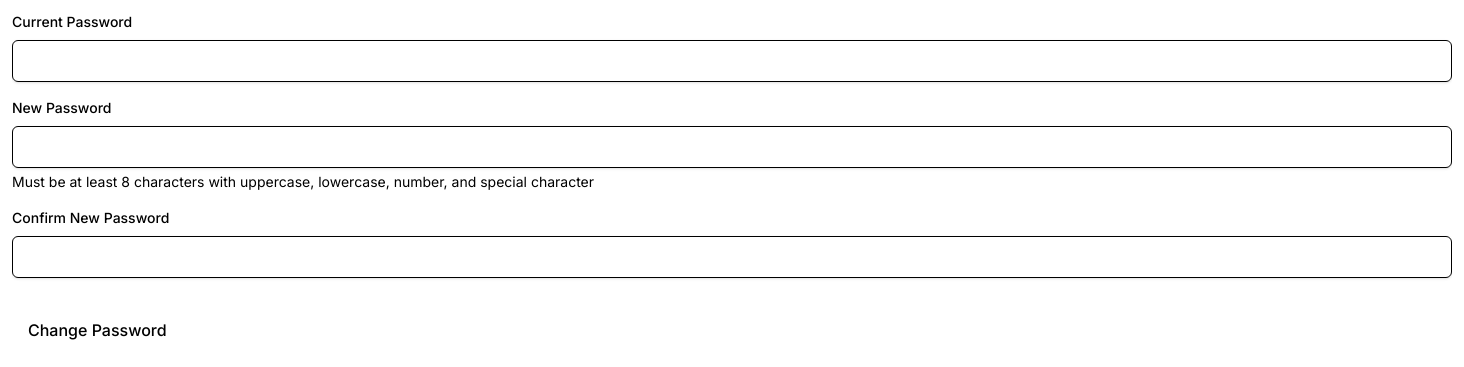
Scenario: ChangePasswordForm › shows validation error when new password lacks uppercase letter
Type "oldPassword123!" into the password field labelled "Current Password".
click(732, 61); type("oldPassword123!")  # box [12, 40, 1452, 82]
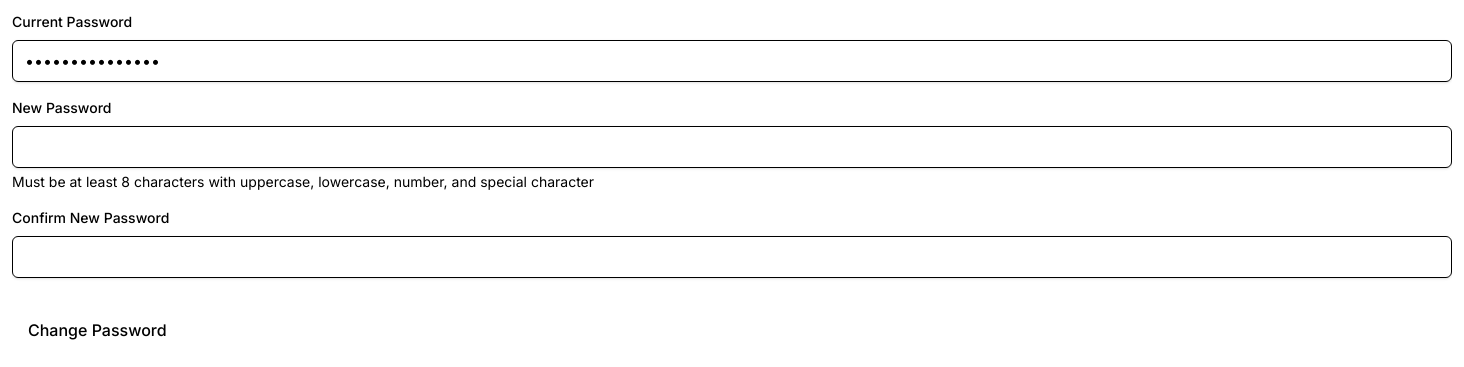
Type "newpassword123!" into the password field labelled "New Password".
click(732, 147); type("newpassword123!")  # box [12, 126, 1452, 168]
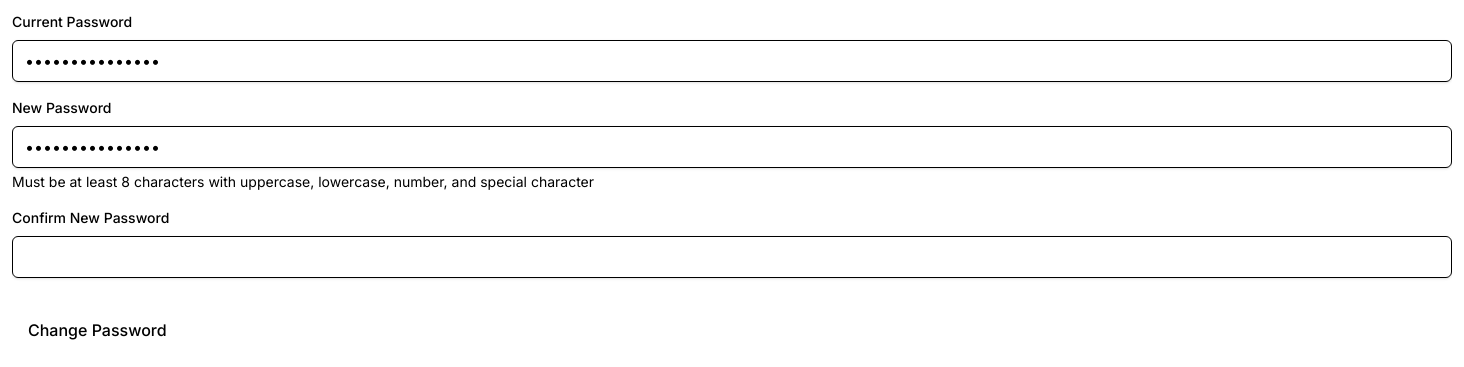
Type "newpassword123!" into the password field labelled "Confirm New Password".
click(732, 257); type("newpassword123!")  # box [12, 236, 1452, 278]
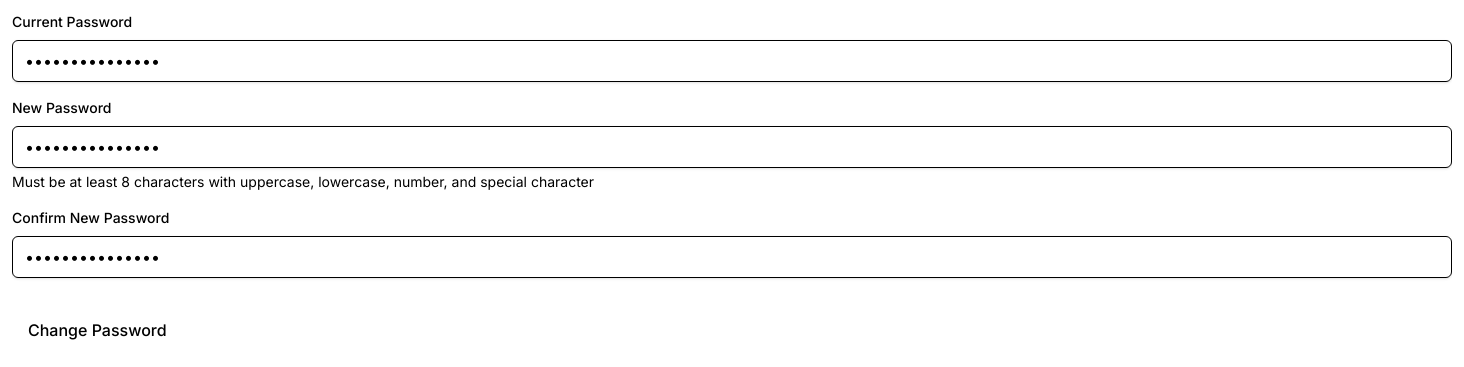
Click the button "Change Password".
click(97, 330)  # box [12, 310, 183, 350]
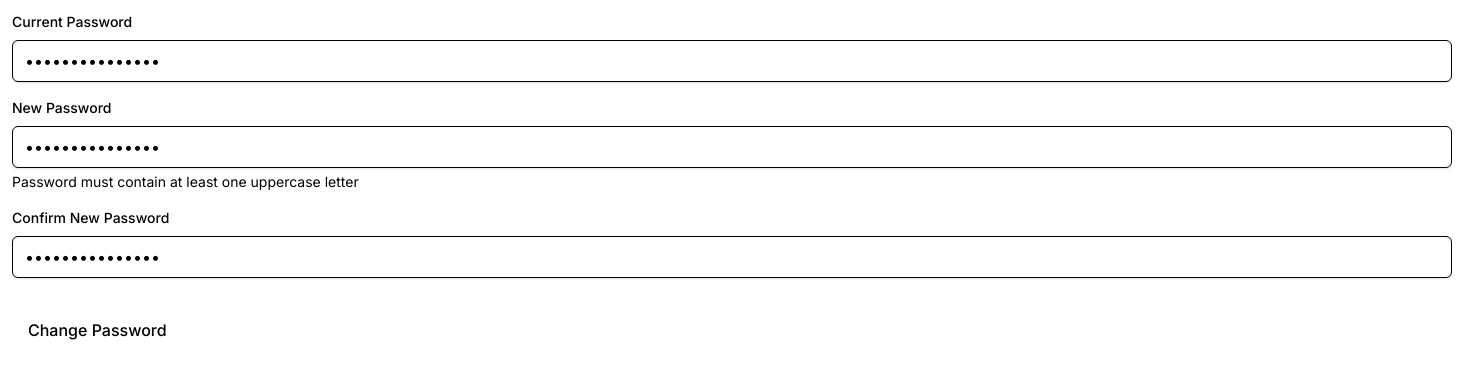
Check: the text "Password must contain at least one uppercase letter" is shown, box [12, 173, 359, 190]
